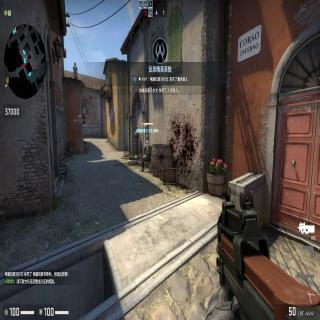CT-Body: (142, 138, 152, 174)
CT-Head: (145, 138, 149, 144)
